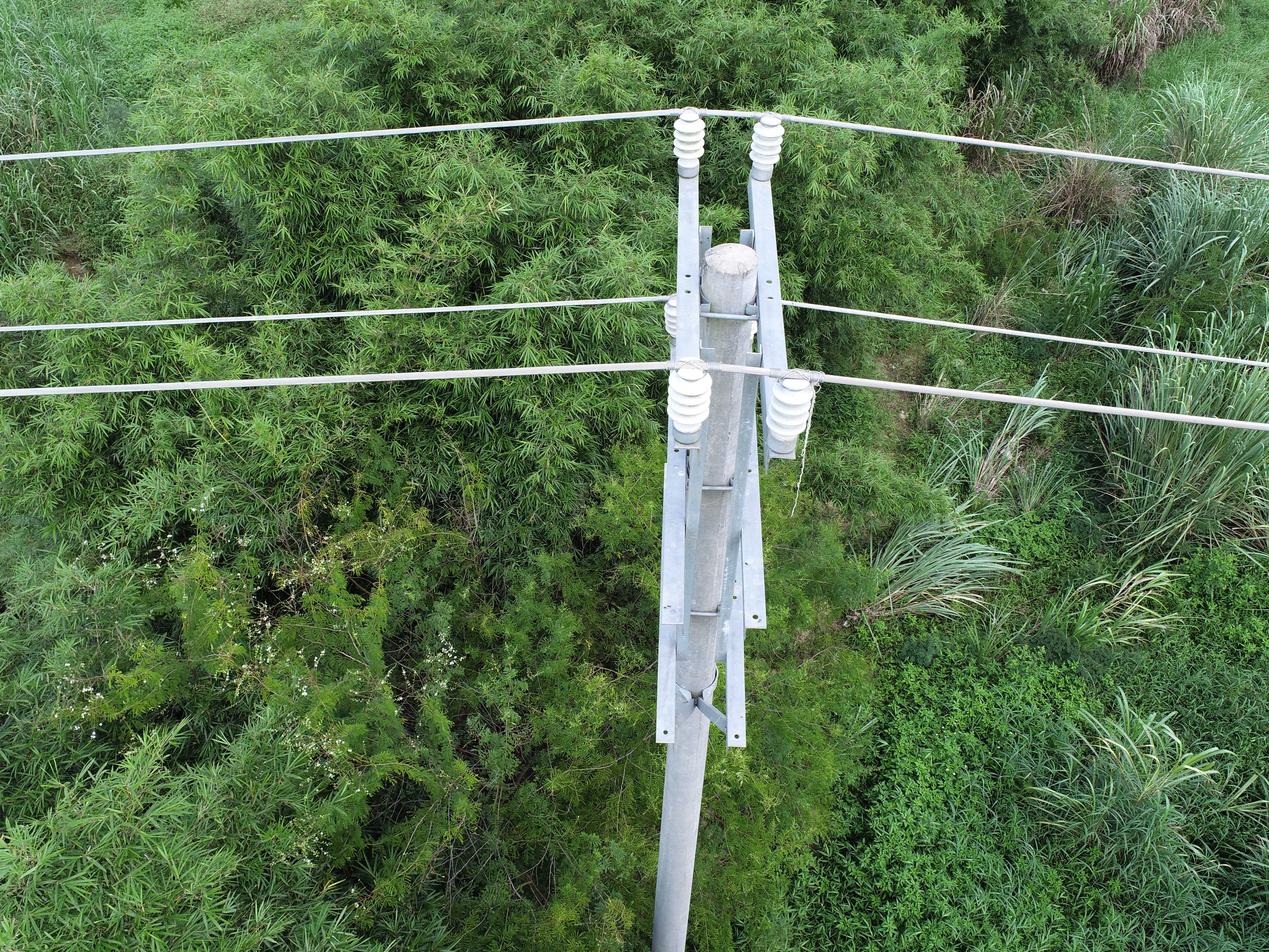异物: (790, 370, 826, 519)
